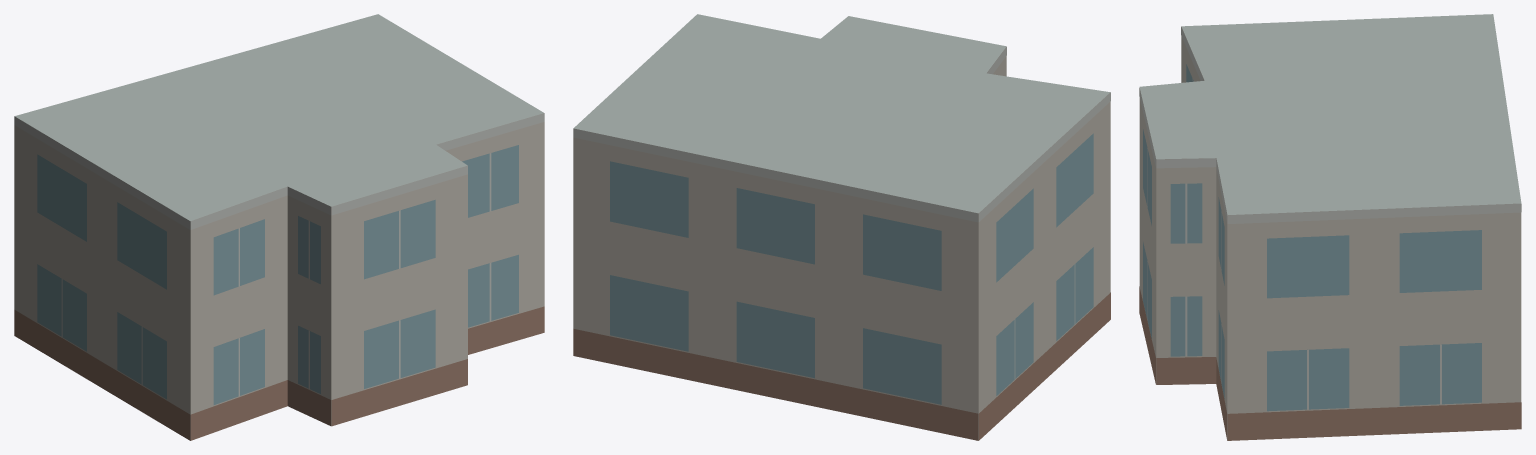
File: survey-upis-32618542.glb
3 renders of one model, left to right at view 1: azimuth 30°, elevation 25°; view 2: azimuth 150°, elevation 25°; view 3: azimuth 270°, elevation 25°, orthographic. The views are drawn at different scales.
Parts seen in each view (by area): view 1: survey-upis-32618542.tmp; view 2: survey-upis-32618542.tmp; view 3: survey-upis-32618542.tmp.
Part boxes in pixels (left/top/right/bottom): survey-upis-32618542.tmp: left=14, top=14, right=544, bottom=440; survey-upis-32618542.tmp: left=573, top=14, right=1110, bottom=440; survey-upis-32618542.tmp: left=1139, top=14, right=1521, bottom=440.
Bounding box in the file's own units: 11.67 × 6.1 × 9.37.
